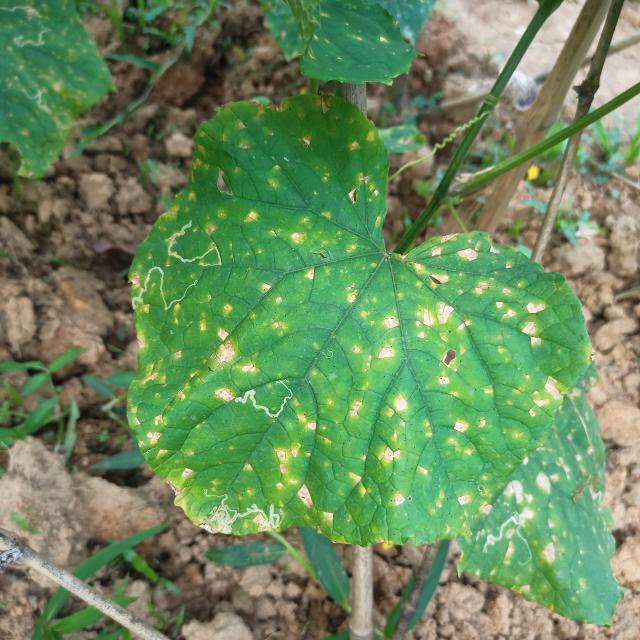disease_cucumber: (142, 118, 560, 528), (479, 412, 617, 603)
